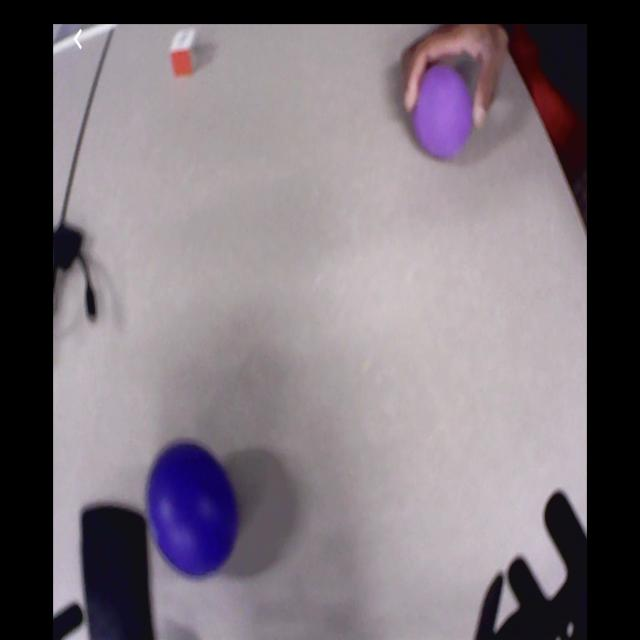ball: (149, 441, 236, 576), (416, 64, 474, 158)
